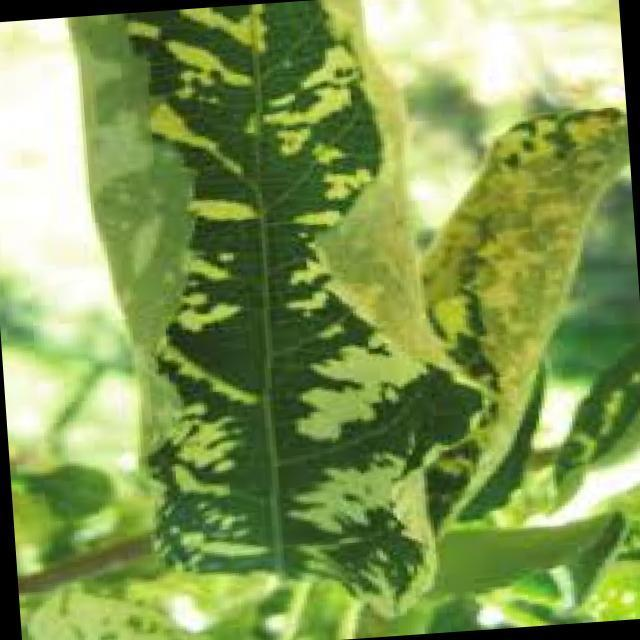Mosaic Virus: (101, 0, 434, 623)
